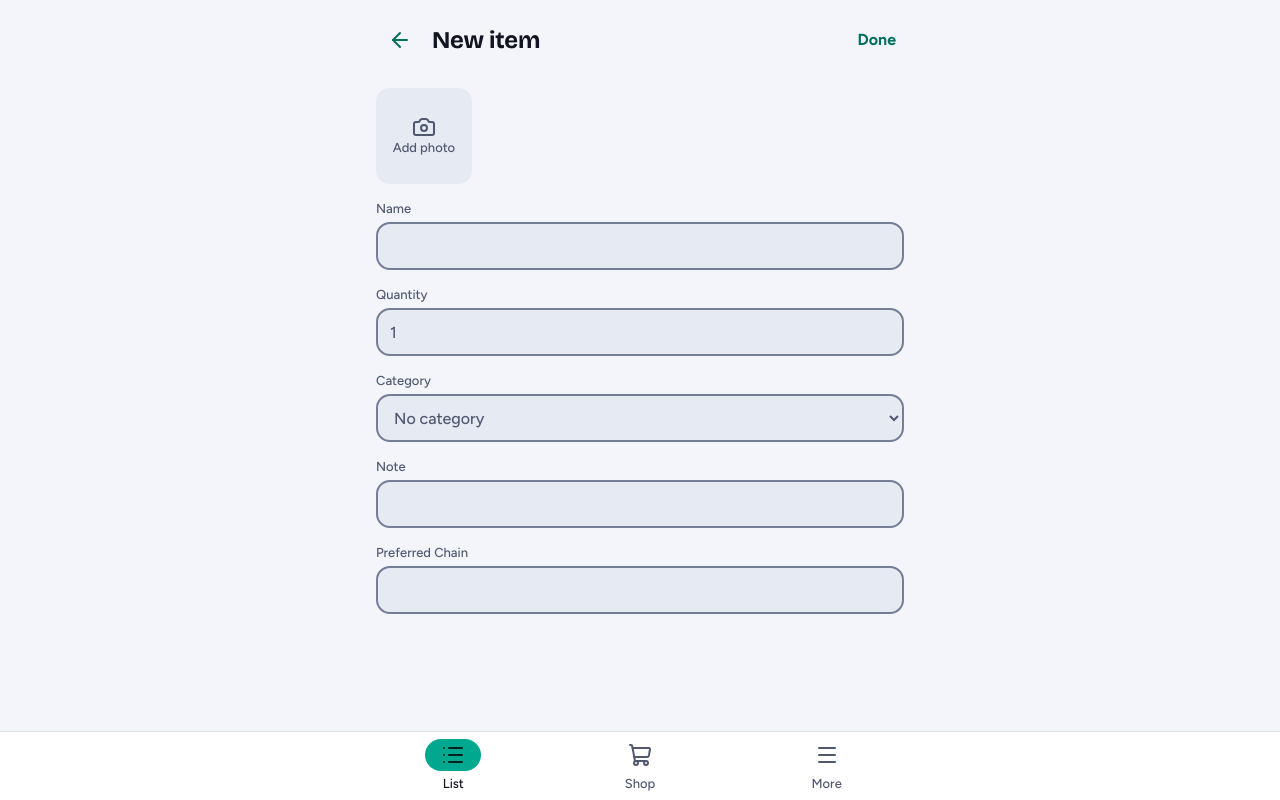
Test case: New item page saving › refuses the quantity  without writing
Type "Eggs" into the field labelled "Name".
click(640, 246); type("Eggs")  # box [376, 222, 904, 270]
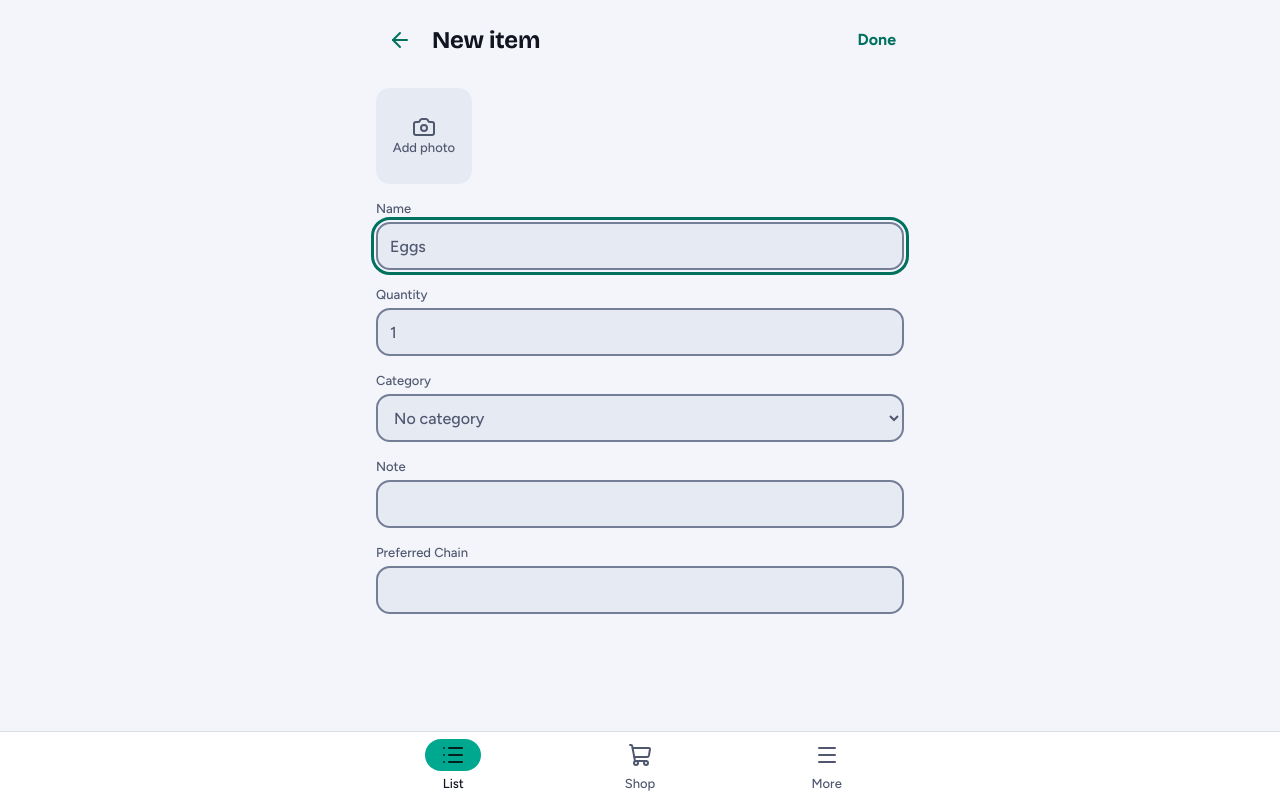
Clear the field labelled "Quantity" at x=640, y=332, box [376, 308, 904, 356]
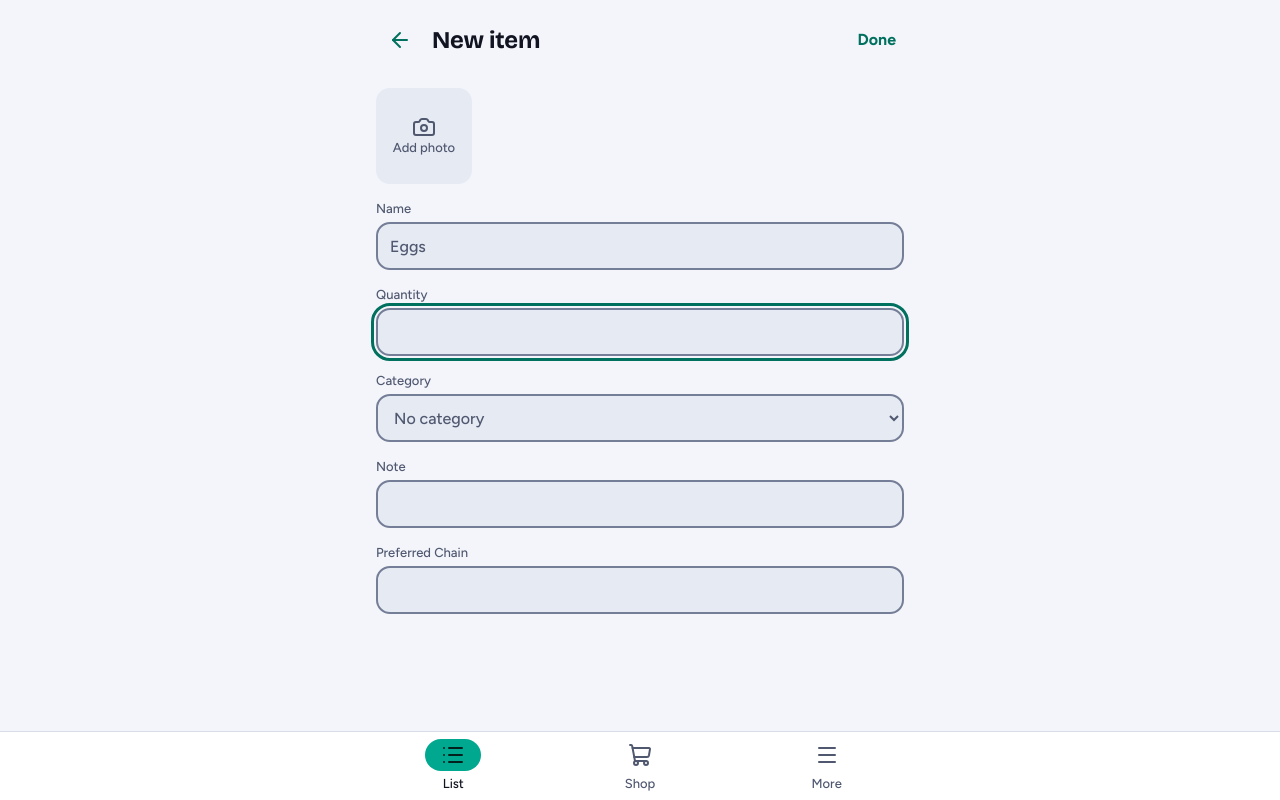
Click the button "Done".
click(877, 40)  # box [850, 16, 904, 64]
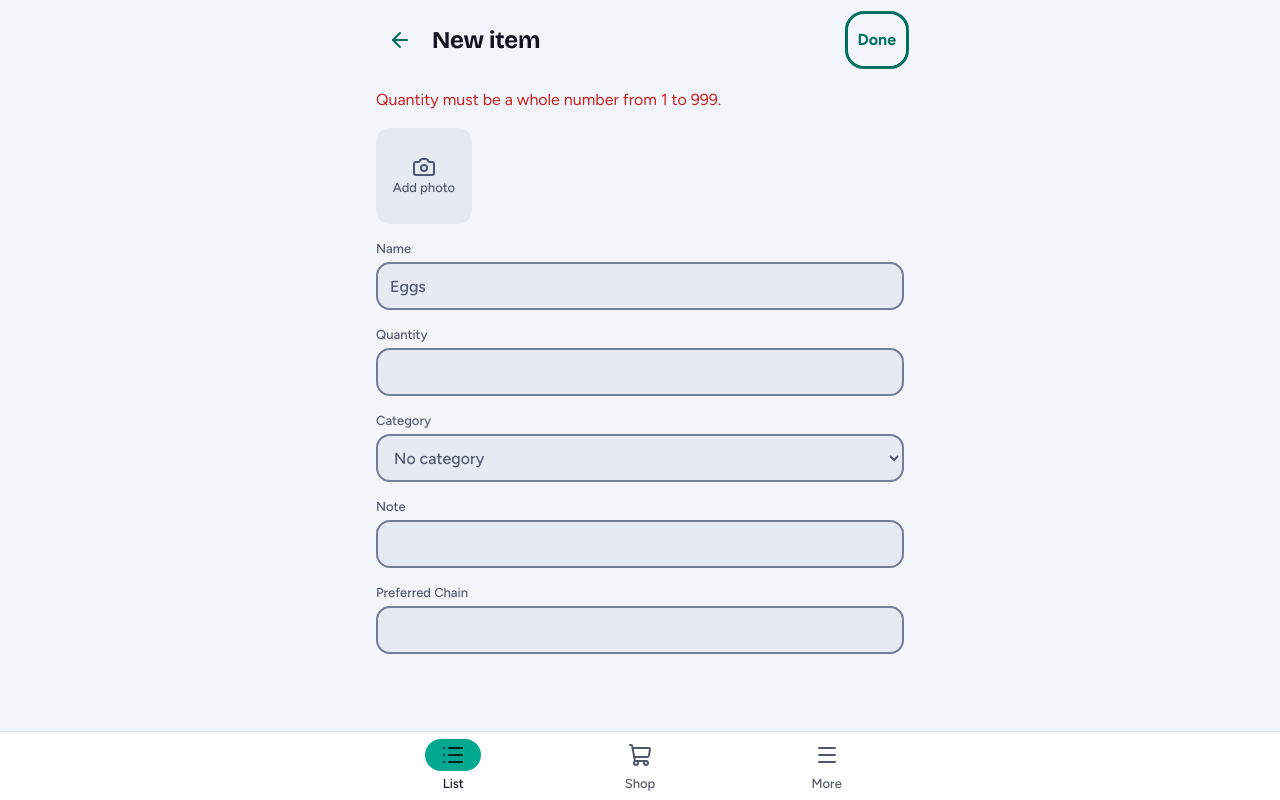
Expected: the message reads "Quantity must be a whole number from 1 to 999.", [376, 90, 721, 109]
